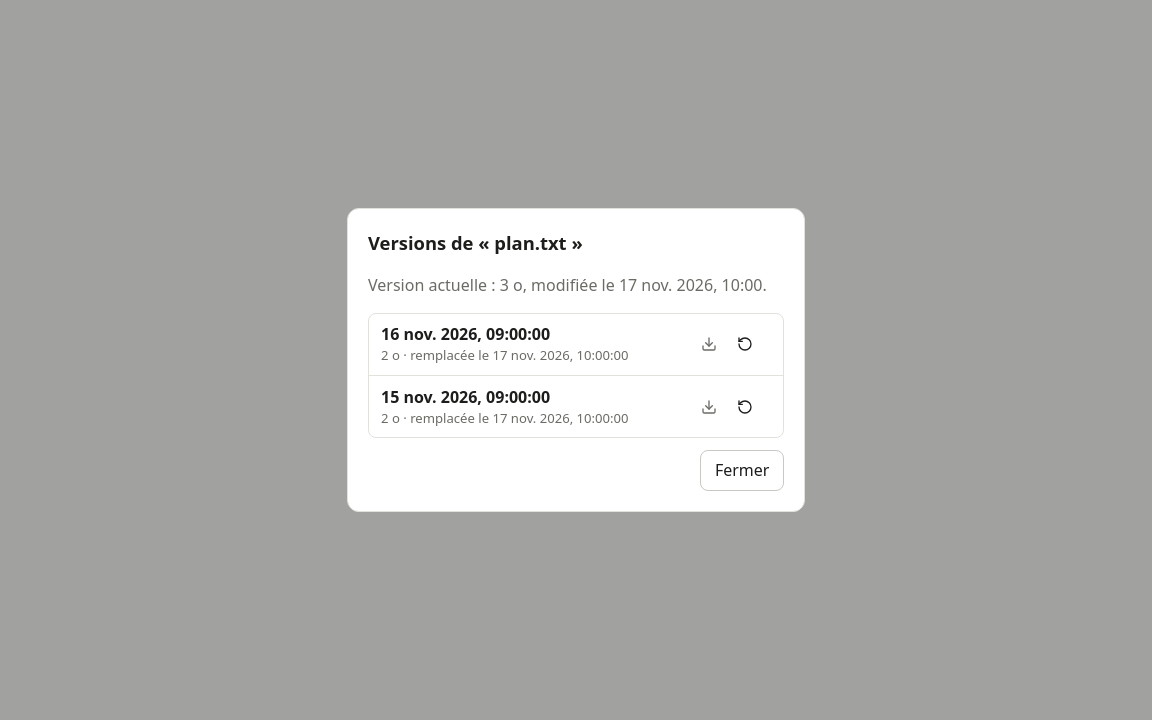
Test: VersionsDialog › lists the versions, links each download, and restores one
This screenshot has width=1152, height=720.
Expected: the number of links titled "Télécharger" is 2, [701,336,717,352]; [701,399,717,415]
Click the button titled "Restaurer": (745, 407) [718,391,771,423]
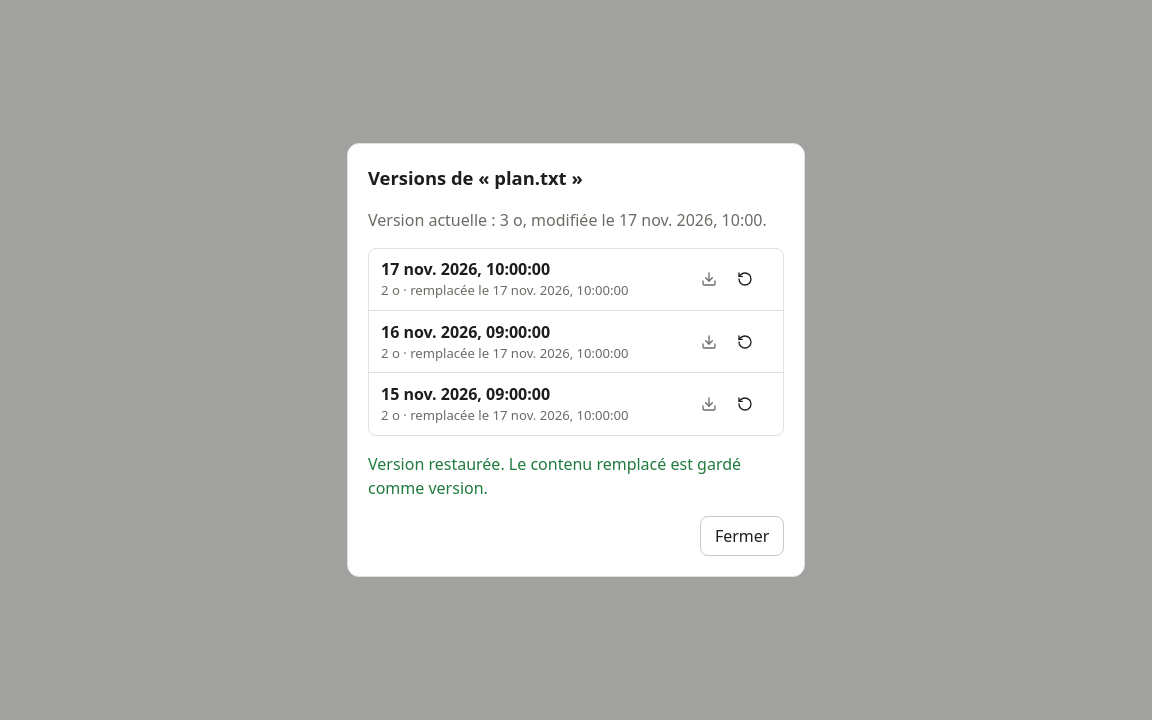
Result: the text "Version restaurée. Le contenu remplacé est gardé comme version." is shown at [368,452,784,500]
Result: the number of buttons titled "Restaurer" is 3 at [718,263,771,295]; [718,326,771,358]; [718,388,771,420]
